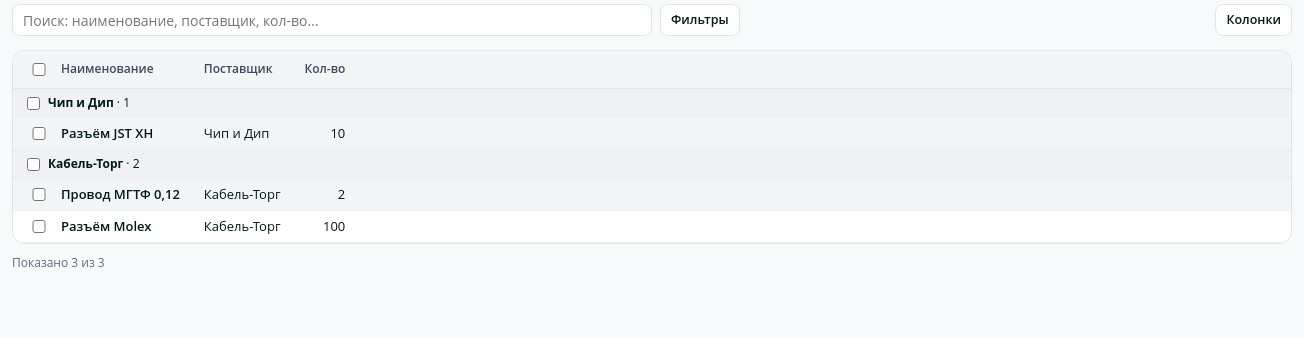
it: selects and clears a whole group from its header checkbox
This screenshot has width=1304, height=338.
Click the 2nd checkbox named "Выбрать группу" at coordinates (34, 165), box [27,158,40,172]
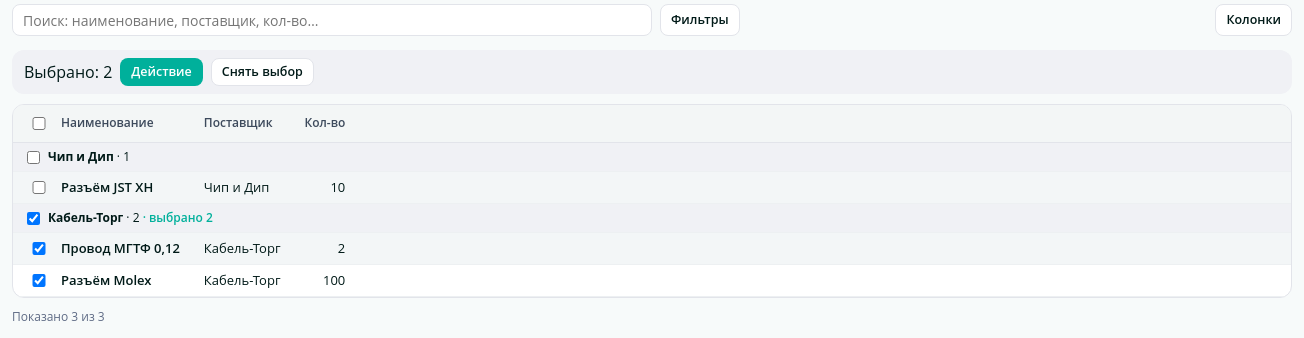
Expected: the checkbox named "Выбрать 1" is not checked, [29,181,49,194]
Result: the checkbox named "Выбрать 2" is checked at [29,242,49,255]
Result: the checkbox named "Выбрать 3" is checked
Click the checkbox named "Выбрать 3" at coordinates (39, 281), box [29,274,49,287]
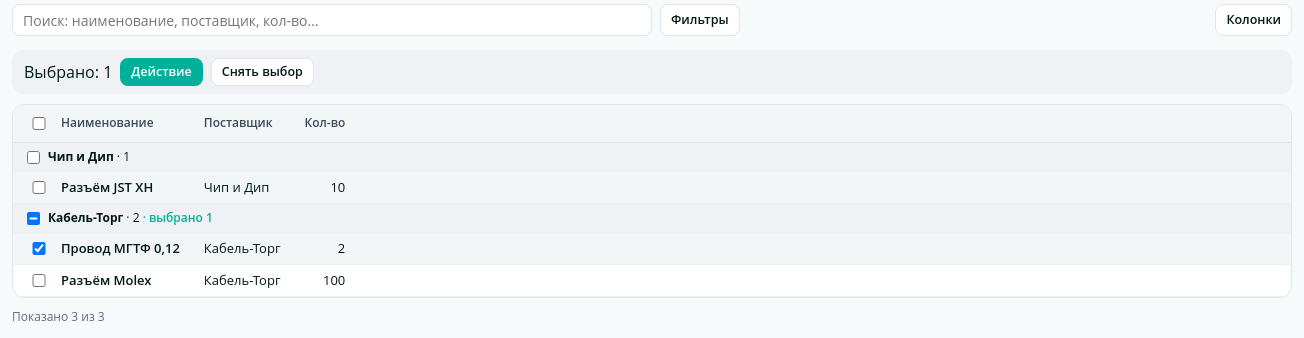
Result: the checkbox named "Выбрать группу" in the row of "· выбрано" is not checked at [27,212,40,226]
Click the 1st checkbox named "Выбрать группу" at coordinates (34, 158), box [27,151,40,164]
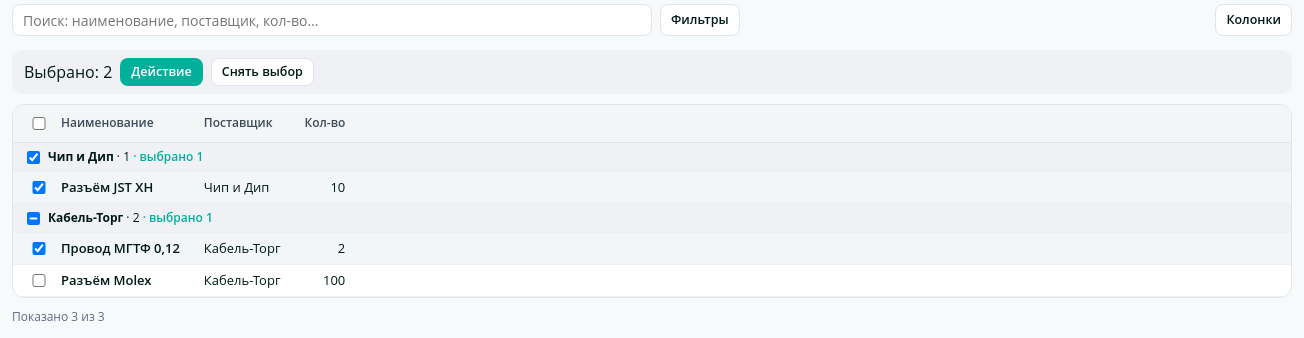
Result: the text "Выбрано: 2" is shown at [24,61,112,83]
Click the 1st checkbox named "Выбрать группу" at coordinates (34, 158), box [27,151,40,164]
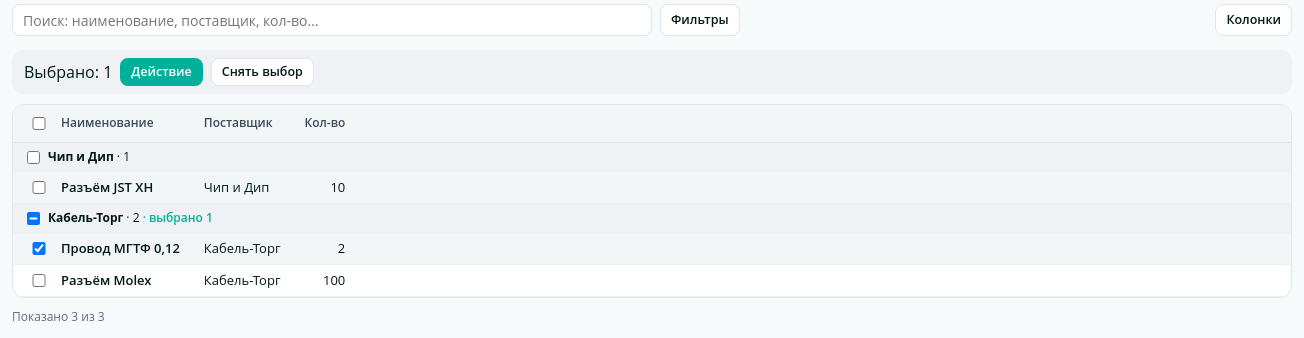
Result: the text "Выбрано: 1" is shown at [24,61,112,83]
